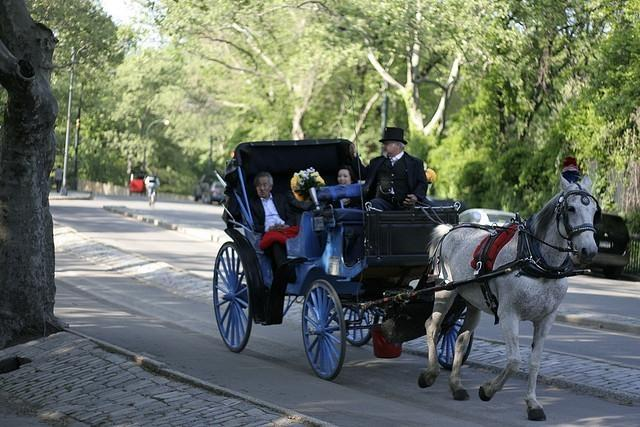car: (193, 175, 226, 203)
